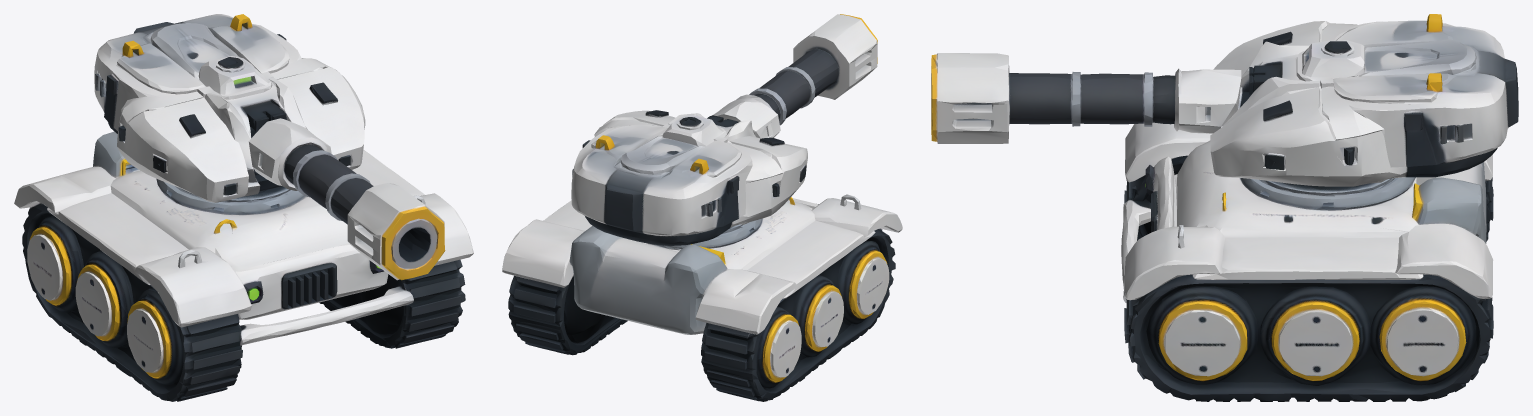
Rendered from scatter.glb.
The picture shows the model from 3 angles, left to right: view 1: azimuth 30°, elevation 25°; view 2: azimuth 150°, elevation 25°; view 3: azimuth 270°, elevation 25°; orthographic projection. The views are drawn at different scales.
Parts seen in each view (by area): view 1: model; view 2: model; view 3: model.
Part boxes in pixels (bbox=[...]): model: bbox=[14, 14, 473, 401]; model: bbox=[502, 14, 902, 401]; model: bbox=[931, 14, 1518, 401].
Bounding box in the file's own units: 1.23 × 1.02 × 1.9.
Materials: 1 (1 with a texture image).
